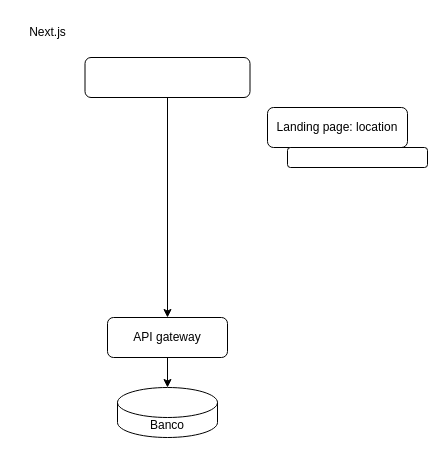
Image size: 445x455. Some labels were removed from this diagram. The shapes that lost their labels are listed below. From the top down, each one's centre as x and y in pixels, then its label:
At [167,77]: "Landing page: non-location".
At [357,157]: "Landing page: logon".
